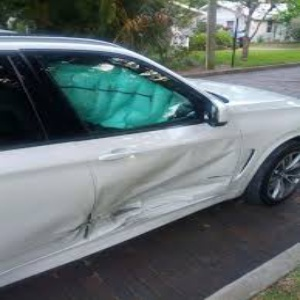door: (38, 164, 229, 242)
